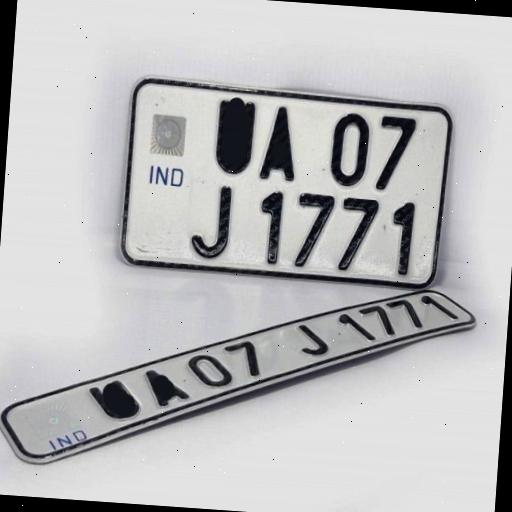number plate: (19, 262, 482, 483), (120, 74, 450, 288)
